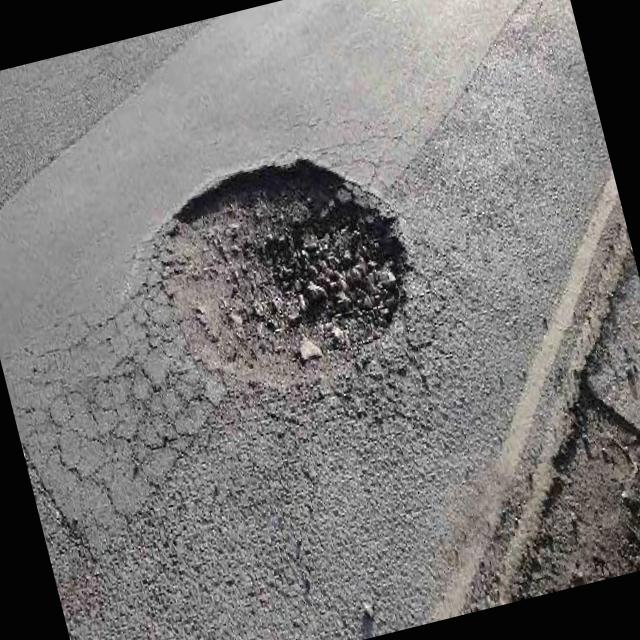Lubang: (142, 158, 408, 392)
Retak-Buaya: (18, 291, 218, 566)
